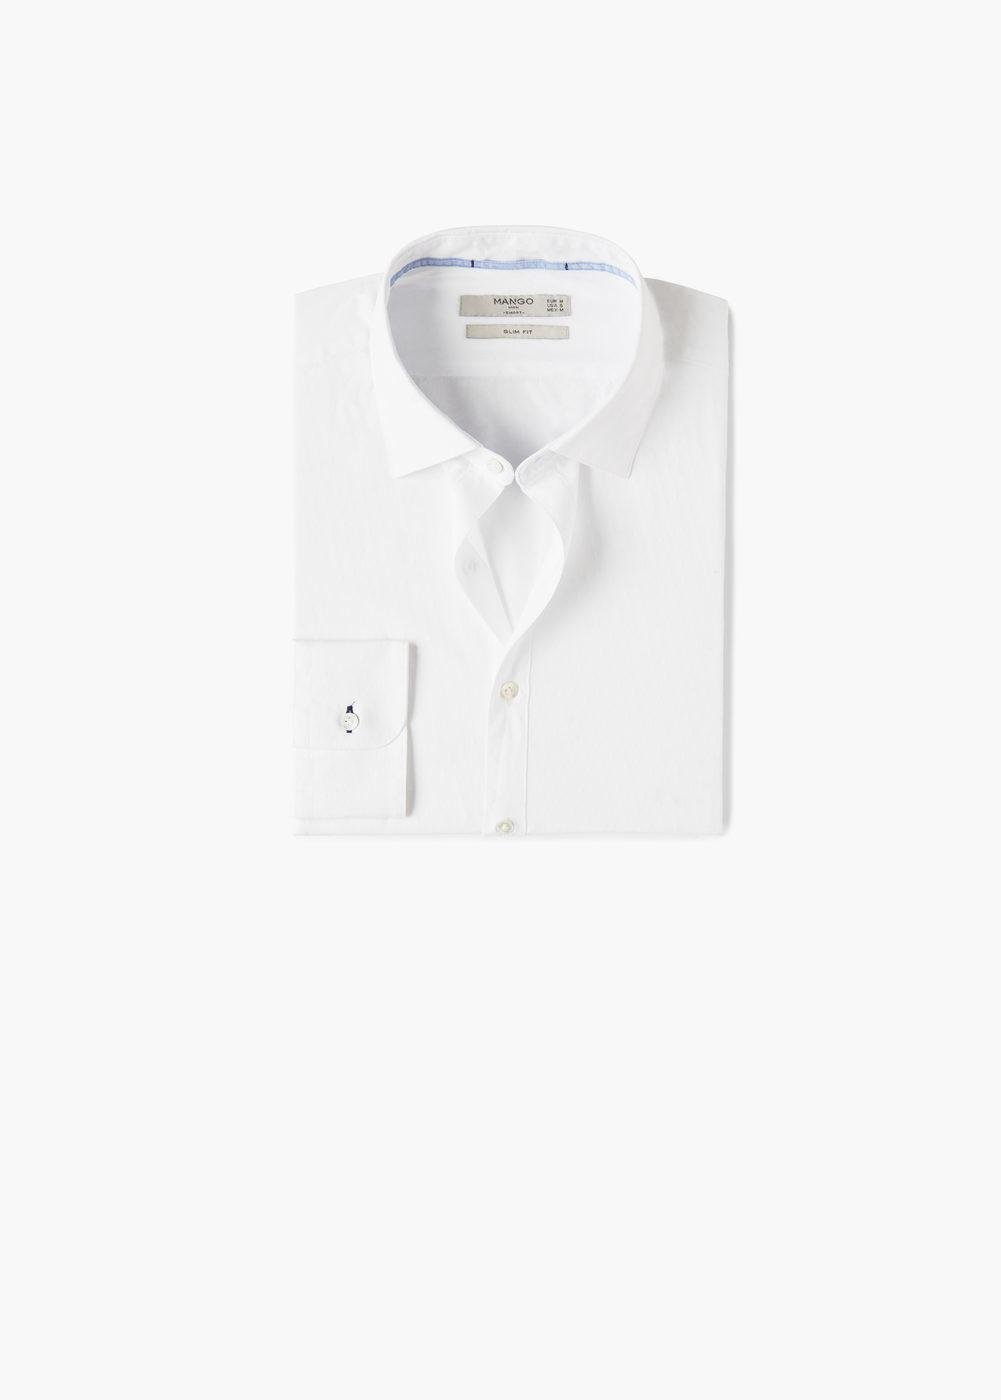teeshirt: (274, 212, 747, 884)
